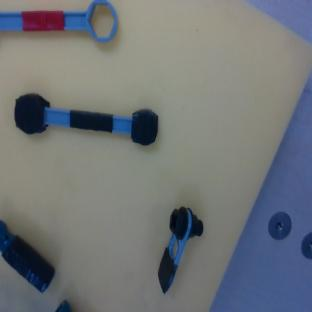part_1_bad: (136, 202, 209, 295)
part_2_bad: (0, 219, 61, 293)
part_2_good: (53, 300, 71, 312)
part_3_bad: (11, 91, 160, 151)
